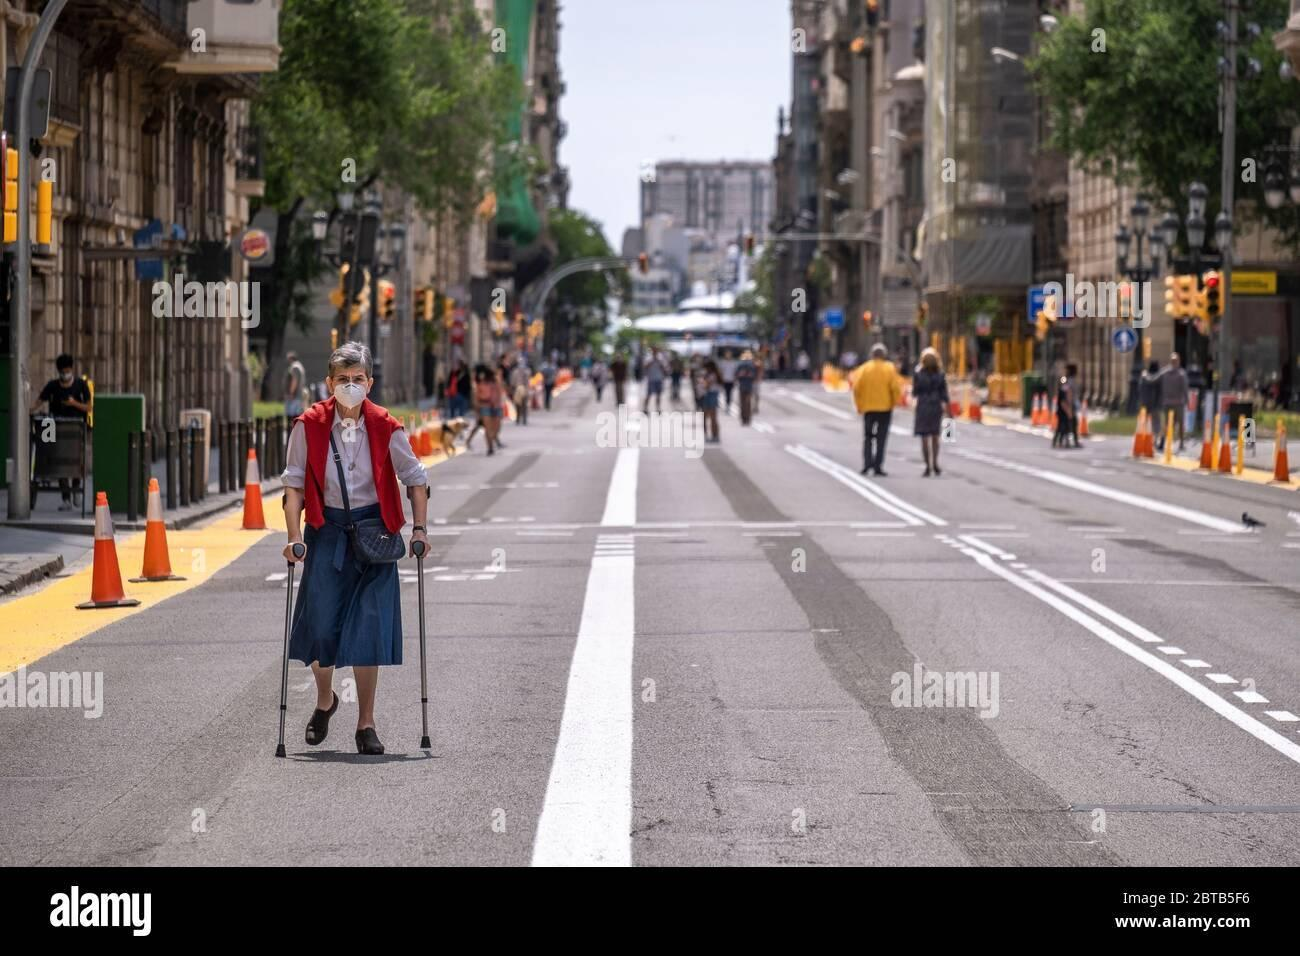crutches: (277, 340, 437, 759)
